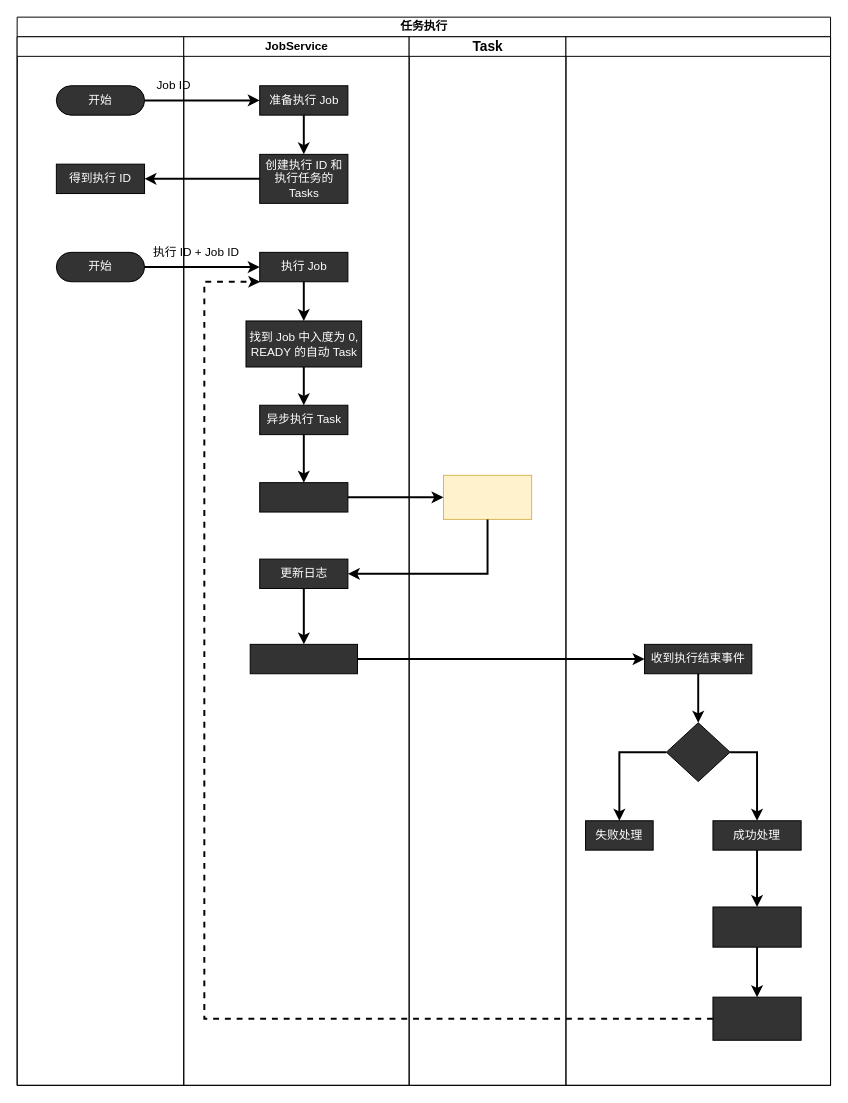
The diagram is 848 pixels wide and 1103 high, and some of its shapes have lost their labels. The shapes that lost their labels are listed below. From the top down, each one's box as (x1, y1, x2, y2) in pixels, then its label:
(259, 482, 348, 512): 更新 Task 开始的状态
(442, 474, 532, 519): 执行 Task 逻辑 execute()
(16, 36, 184, 1085): Client
(565, 36, 831, 1085): MQ (Listener)
(249, 643, 358, 674): 发送执行结束事件
(665, 722, 730, 782): 成功
(712, 906, 801, 947): Task 的后续任务入度减 1
(712, 996, 801, 1040): 执行 Task 所属 Job
